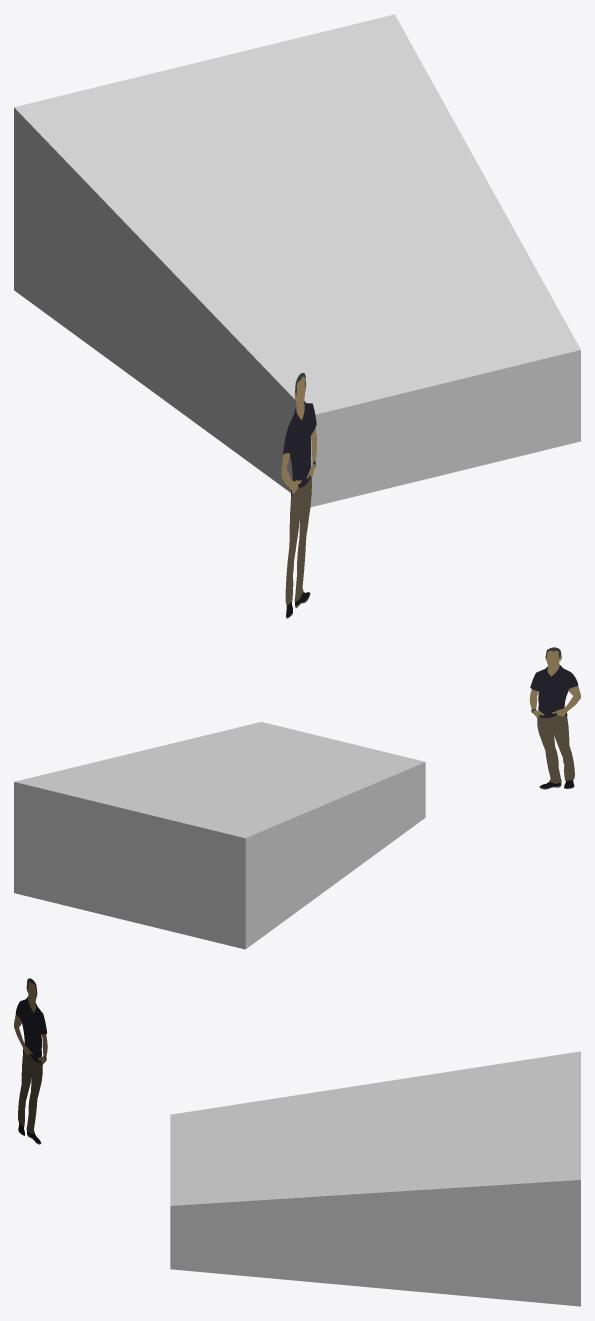
3 views of the same model, one above another, from view 1: azimuth 30°, elevation 25°; view 2: azimuth 150°, elevation 25°; view 3: azimuth 270°, elevation 25° (orthographic). The views are drawn at different scales.
Visible parts, largest first — view 1: SketchUp, Chris (×2); view 2: SketchUp, Chris (×2); view 3: SketchUp, Chris (×2).
Part boxes in pixels (<box>): SketchUp: <box>14,14,580,507</box>; Chris (×2): <box>283,401,316,605</box>; SketchUp: <box>14,722,425,949</box>; Chris (×2): <box>530,664,578,783</box>; SketchUp: <box>170,1051,580,1306</box>; Chris (×2): <box>15,997,46,1133</box>.
Size of the model in its own units: 163 by 221 by 69.5.
